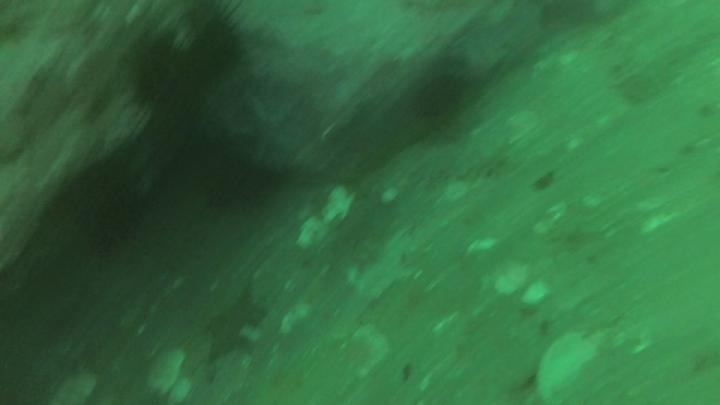echinus: (133, 42, 195, 107), (87, 191, 146, 256), (211, 160, 279, 215), (190, 18, 240, 78), (423, 74, 467, 112)
starfish: (207, 284, 268, 359)
